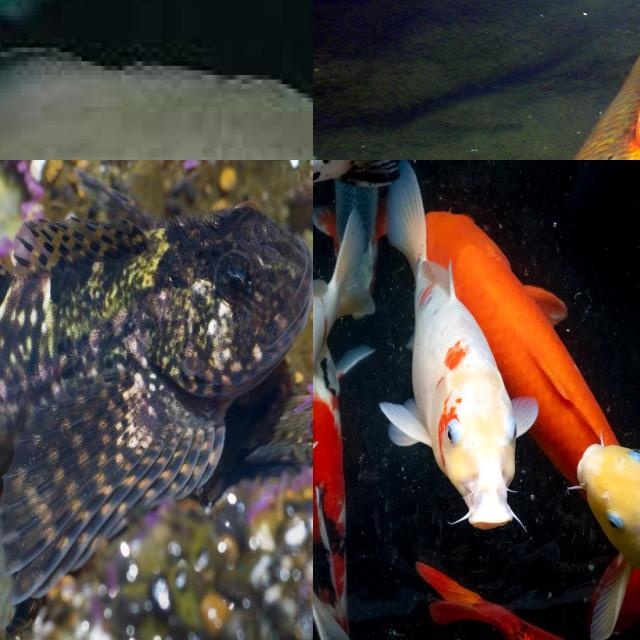fish: (0, 164, 313, 604), (450, 351, 640, 640), (0, 0, 313, 160), (451, 0, 640, 160)
